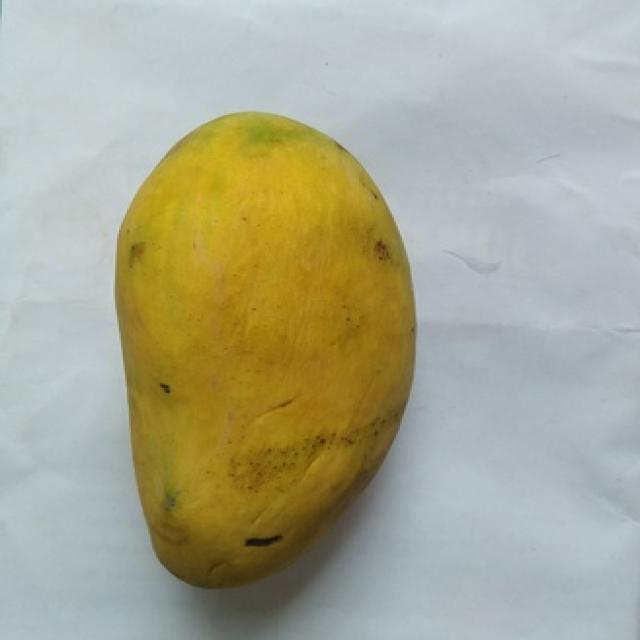Mango: (115, 113, 414, 584)
